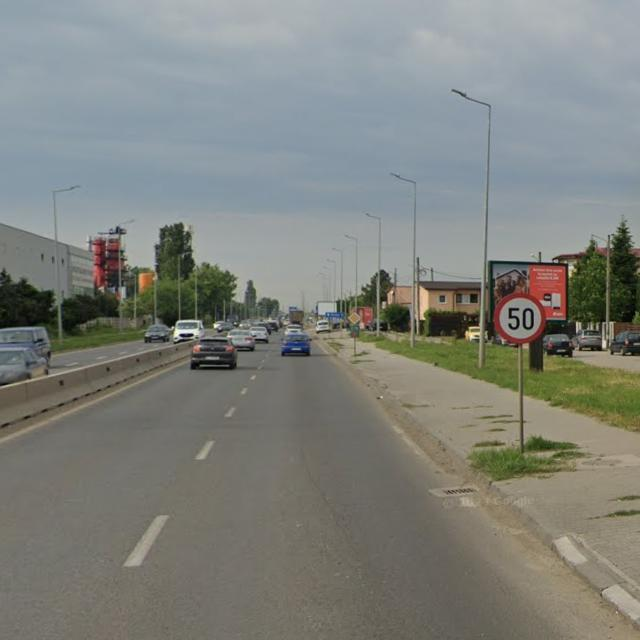forb_speed_over_50: (496, 296, 545, 345)
